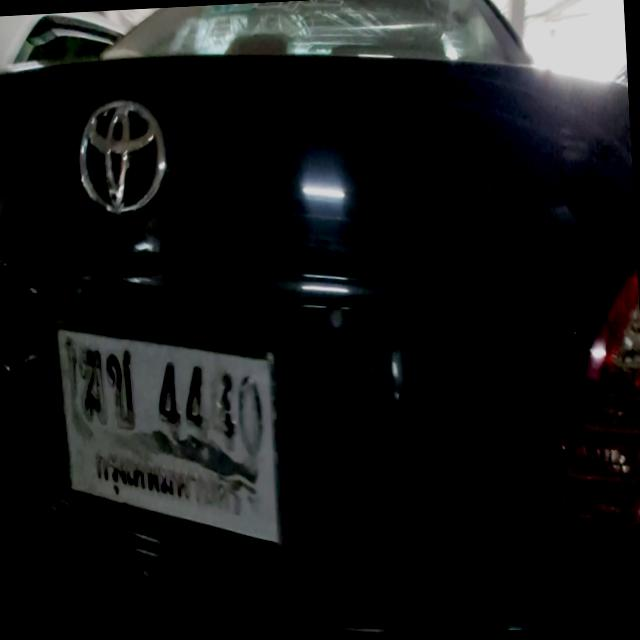license_plate: (57, 329, 280, 543)
